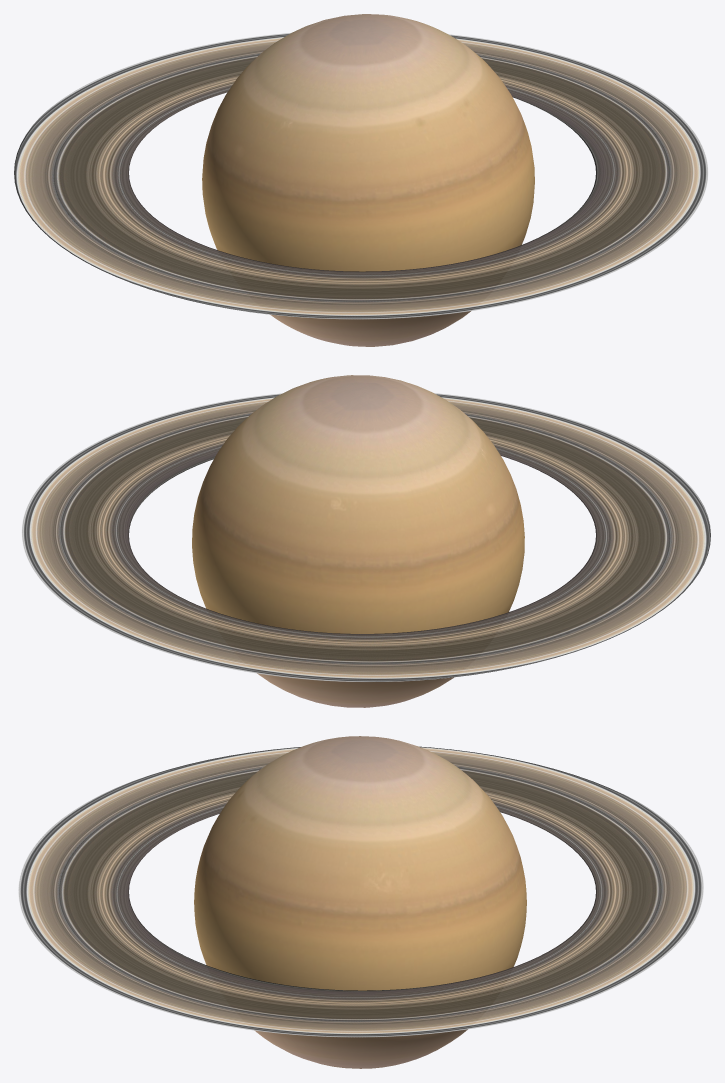
The model's file is saturn2.obj.
The picture shows the model from 3 angles, top to bottom: view 1: azimuth 30°, elevation 25°; view 2: azimuth 150°, elevation 25°; view 3: azimuth 270°, elevation 25°; orthographic projection.
Visible parts, largest first — view 1: Torus, Ceres_Sphere; view 2: Torus, Ceres_Sphere; view 3: Torus, Ceres_Sphere.
Boxes of the visible parts, bbox=[...] form: Torus: bbox=[14, 33, 708, 319]; Ceres_Sphere: bbox=[202, 14, 534, 346]; Torus: bbox=[22, 393, 710, 681]; Ceres_Sphere: bbox=[192, 375, 524, 707]; Torus: bbox=[18, 746, 703, 1037]; Ceres_Sphere: bbox=[194, 736, 526, 1068].
Size of the model in its own units: 39.29 by 18.76 by 39.29.
